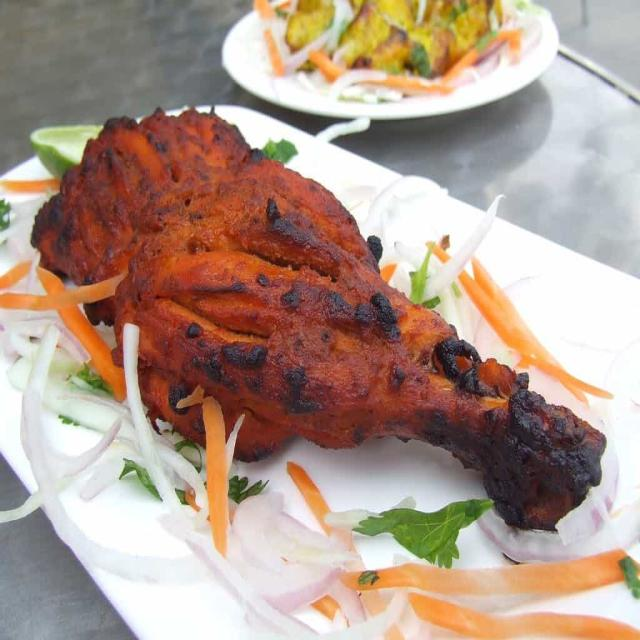non veg meals: (31, 94, 615, 552)
